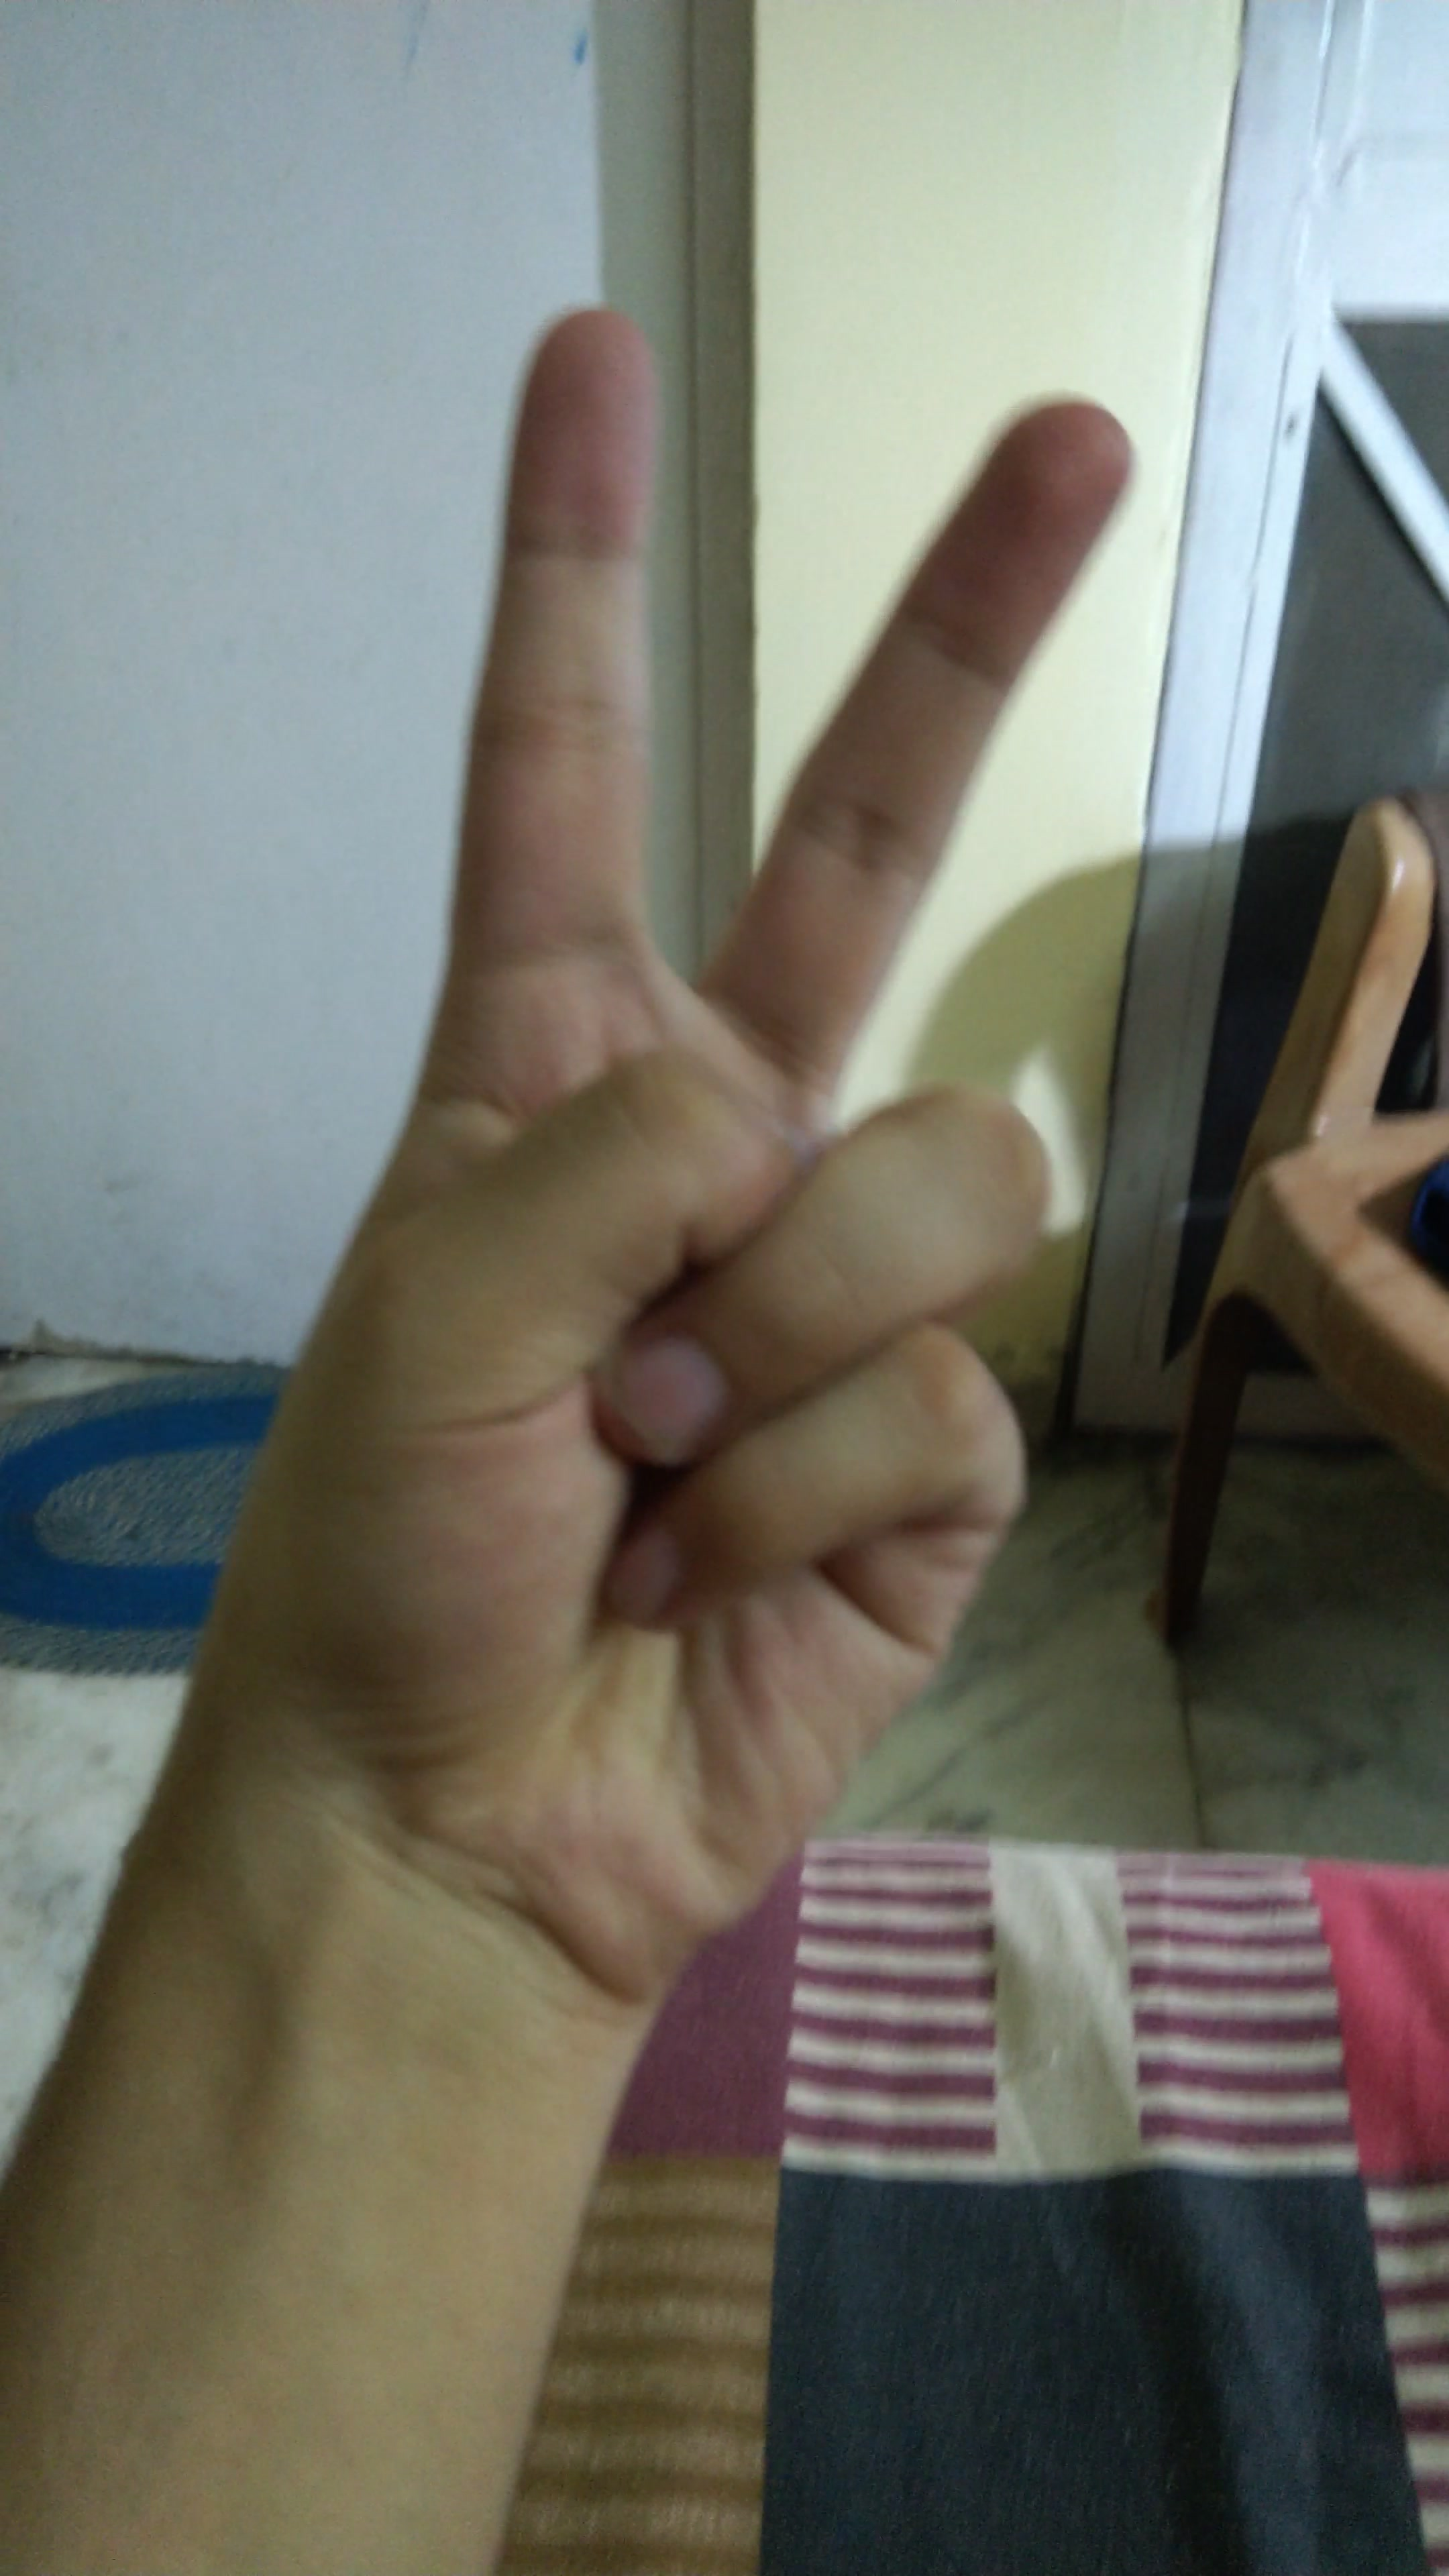hand: (90, 276, 1175, 1962)
